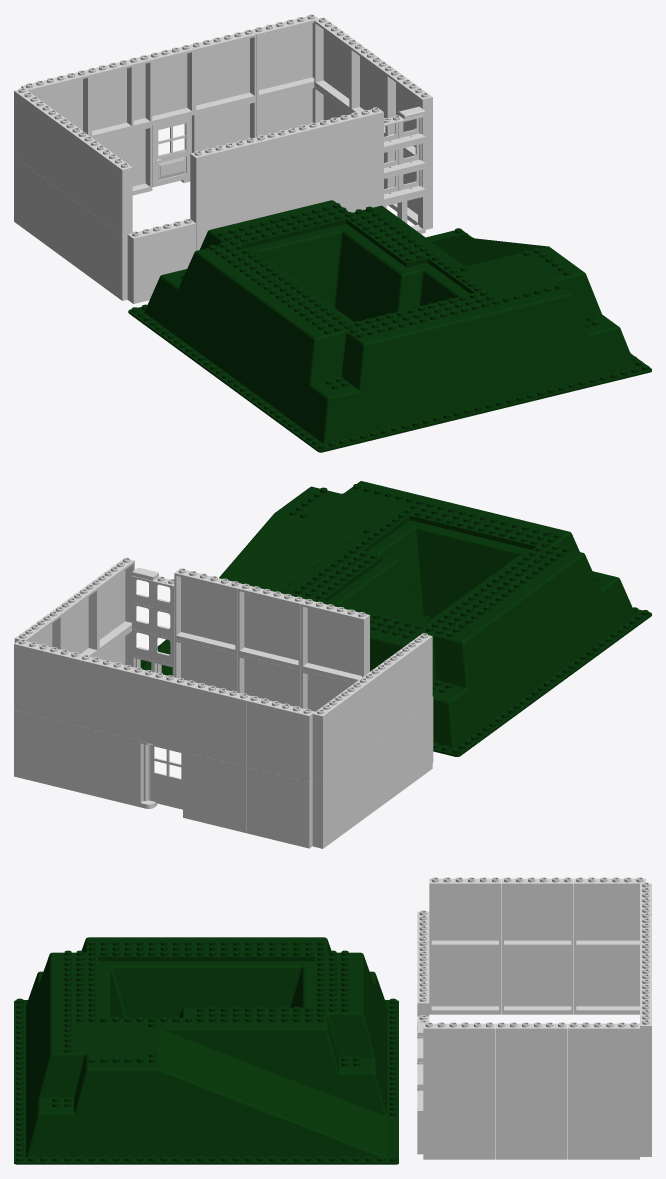
Rendered from House.dae.
3 views of the same model, one above another, from view 1: azimuth 30°, elevation 25°; view 2: azimuth 150°, elevation 25°; view 3: azimuth 270°, elevation 25° (orthographic).
Visible parts, largest first — view 1: Part.0, Part.30, Part.29, Part.19, Part.28, Part.20, Part.35, Part.21, Part.17, Part.25, Part.18, Part.24 (+19 smaller); view 2: Part.0, Part.30, Part.22, Part.21, Part.19, Part.20, Part.29, Part.28, Part.6, Part.3, Part.4, Part.5 (+18 smaller); view 3: Part.0, Part.24, Part.25, Part.26, Part.27, Part.18, Part.8, Part.9, Part.10, Part.11, Part.23, Part.2 (+4 smaller).
Part boxes in pixels (left/top/right/bottom): Part.0: left=128, top=200, right=651, bottom=452; Part.30: left=190, top=138, right=258, bottom=223; Part.29: left=253, top=122, right=321, bottom=207; Part.19: left=188, top=29, right=256, bottom=114; Part.28: left=316, top=107, right=383, bottom=192; Part.20: left=251, top=14, right=318, bottom=99; Part.35: left=127, top=45, right=194, bottom=129; Part.21: left=84, top=55, right=152, bottom=139; Part.17: left=127, top=218, right=195, bottom=303; Part.25: left=86, top=140, right=132, bottom=235; Part.18: left=314, top=17, right=359, bottom=111; Part.24: left=50, top=114, right=95, bottom=208; Part.0: left=140, top=481, right=651, bottom=756; Part.30: left=301, top=599, right=369, bottom=682; Part.22: left=246, top=696, right=314, bottom=782; Part.21: left=183, top=680, right=251, bottom=766; Part.19: left=77, top=654, right=145, bottom=740; Part.20: left=14, top=639, right=82, bottom=725; Part.29: left=237, top=583, right=306, bottom=669; Part.28: left=174, top=568, right=242, bottom=654; Part.6: left=246, top=767, right=312, bottom=848; Part.3: left=77, top=726, right=143, bottom=807; Part.4: left=14, top=710, right=77, bottom=791; Part.5: left=183, top=751, right=246, bottom=832; Part.0: left=14, top=937, right=398, bottom=1164; Part.24: left=501, top=877, right=573, bottom=948; Part.25: left=429, top=877, right=501, bottom=948; Part.26: left=495, top=1022, right=567, bottom=1093; Part.27: left=423, top=1022, right=495, bottom=1093; Part.18: left=568, top=1022, right=639, bottom=1093; Part.8: left=501, top=949, right=573, bottom=1014; Part.9: left=429, top=949, right=501, bottom=1014; Part.10: left=495, top=1094, right=567, bottom=1159; Part.11: left=423, top=1094, right=495, bottom=1159; Part.23: left=574, top=877, right=645, bottom=948; Part.2: left=568, top=1094, right=639, bottom=1159.
Bounding box in the file's own units: 256 × 97.78 × 424.
